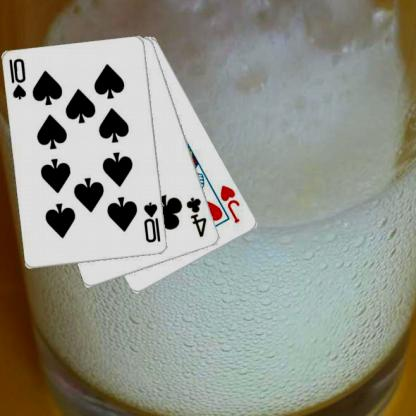10S: (141, 200, 162, 244), (7, 56, 27, 101)
4C: (184, 195, 208, 239)
JH: (218, 183, 242, 224)
